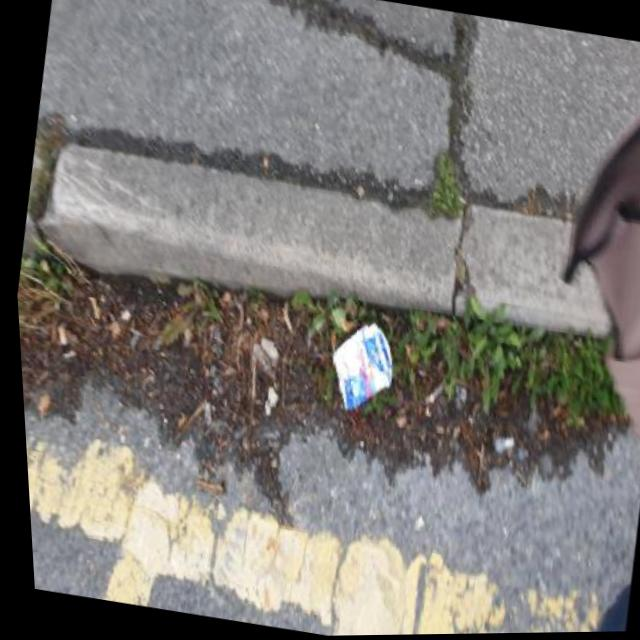metal: (323, 316, 406, 420)
